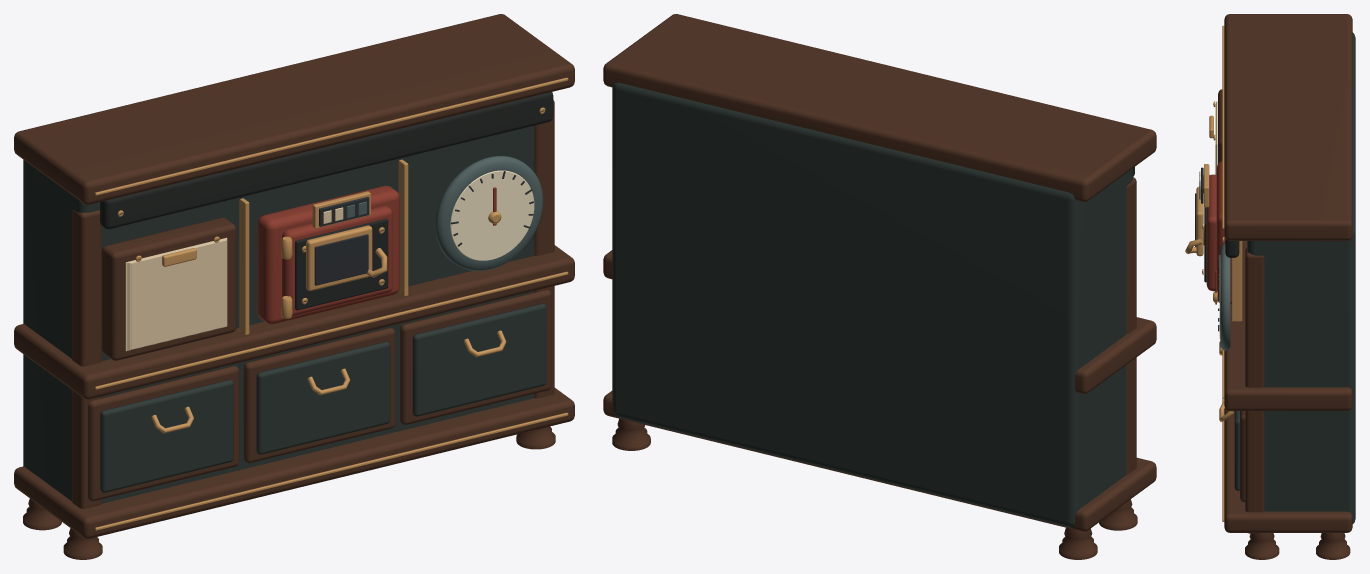
Rendered from darkroom.glb.
The picture shows the model from 3 angles, left to right: view 1: azimuth 30°, elevation 25°; view 2: azimuth 150°, elevation 25°; view 3: azimuth 270°, elevation 25°; orthographic projection. The views are drawn at different scales.
Visible parts, largest first — view 1: Projecting moulded rail.002, Carcass, Projecting moulded rail.001, Projecting moulded rail, Cast header plate, Fielded walnut panel.001, Fielded walnut panel.002, Fielded walnut panel, Deckled folio leaf.004, Dovetailed document tray, Ebonised stile, Pressure enamel face (+18 smaller); view 2: Carcass, Projecting moulded rail.002, Projecting moulded rail, Ebonised stile, Projecting moulded rail.001, Turned pilaster foot.001, Turned pilaster foot.003, Turned pilaster foot; view 3: Projecting moulded rail.002, Carcass, Ebonised stile.001, Projecting moulded rail.001, Projecting moulded rail, Deep-pressed hatch leaf, Stepped bezel, Rebated hatch casing, Station divider.001, Turned pilaster foot.003, Turned pilaster foot.002, Beaded brass inlay.002 (+7 smaller).
Boxes of the visible parts, x1=… form: Projecting moulded rail.002: x1=14, y1=14, x2=574, y2=204; Carcass: x1=23, y1=125, x2=534, y2=503; Projecting moulded rail.001: x1=14, y1=245, x2=574, y2=399; Projecting moulded rail: x1=14, y1=388, x2=574, y2=538; Cast header plate: x1=100, y1=92, x2=553, y2=229; Fielded walnut panel.001: x1=256, y1=341, x2=390, y2=454; Fielded walnut panel.002: x1=412, y1=303, x2=546, y2=416; Fielded walnut panel: x1=100, y1=380, x2=233, y2=492; Deckled folio leaf.004: x1=131, y1=240, x2=226, y2=349; Dovetailed document tray: x1=101, y1=217, x2=236, y2=360; Ebonised stile: x1=72, y1=209, x2=101, y2=508; Pressure enamel face: x1=450, y1=170, x2=534, y2=260; Carcass: x1=612, y1=82, x2=1132, y2=527; Projecting moulded rail.002: x1=603, y1=14, x2=1156, y2=202; Projecting moulded rail: x1=603, y1=391, x2=1156, y2=531; Ebonised stile: x1=1126, y1=177, x2=1136, y2=474; Projecting moulded rail.001: x1=603, y1=250, x2=1156, y2=394; Turned pilaster foot.001: x1=1059, y1=527, x2=1097, y2=559; Turned pilaster foot.003: x1=612, y1=418, x2=650, y2=450; Turned pilaster foot: x1=1099, y1=499, x2=1137, y2=530; Projecting moulded rail.002: x1=1224, y1=14, x2=1352, y2=240; Carcass: x1=1247, y1=32, x2=1355, y2=523; Ebonised stile.001: x1=1245, y1=248, x2=1264, y2=533; Projecting moulded rail.001: x1=1224, y1=241, x2=1352, y2=410; Projecting moulded rail: x1=1224, y1=408, x2=1352, y2=532; Deep-pressed hatch leaf: x1=1206, y1=174, x2=1216, y2=291; Stepped bezel: x1=1220, y1=243, x2=1230, y2=350; Rebated hatch casing: x1=1216, y1=161, x2=1231, y2=304; Station divider.001: x1=1231, y1=241, x2=1242, y2=321; Turned pilaster foot.003: x1=1316, y1=533, x2=1350, y2=559; Turned pilaster foot.002: x1=1245, y1=533, x2=1279, y2=559; Beaded brass inlay.002: x1=1222, y1=25, x2=1224, y2=228.
Size of the model in its own units: 2.52 by 1.9 by 0.8649.
